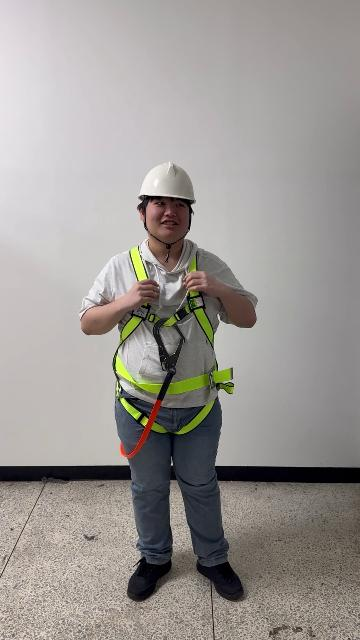helmet_worn: (136, 162, 197, 203)
shoe_not_worn: (194, 558, 249, 603), (128, 558, 172, 602)
vest_worn: (114, 244, 233, 435)
